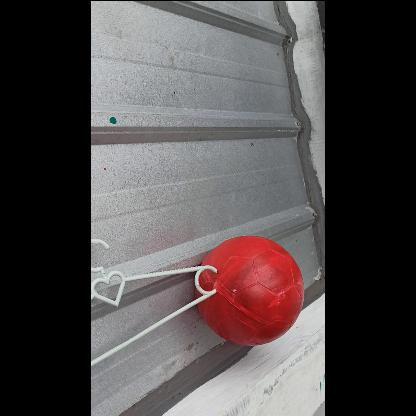red_ball: (196, 233, 306, 343)
